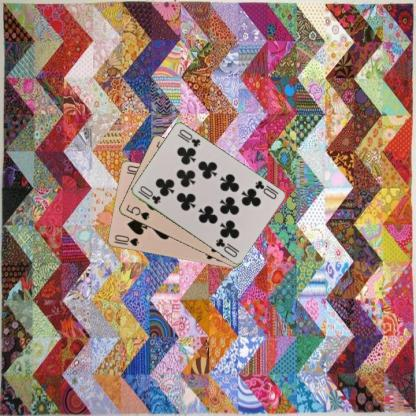10c: (135, 183, 162, 206), (252, 178, 280, 200)
10s: (111, 232, 140, 247)
5s: (123, 202, 150, 221)
